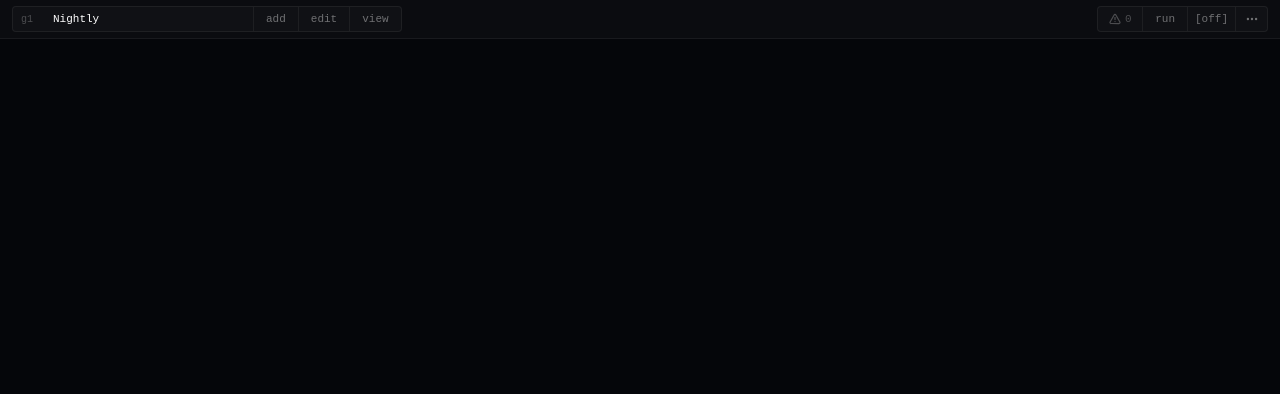
Scenario: switching and dismissing › opens the overflow menu in one click with edit open
This screenshot has width=1280, height=394.
Click the button "edit". click: {"x": 324, "y": 19}
box: x1=299 y1=7 x2=349 y2=31
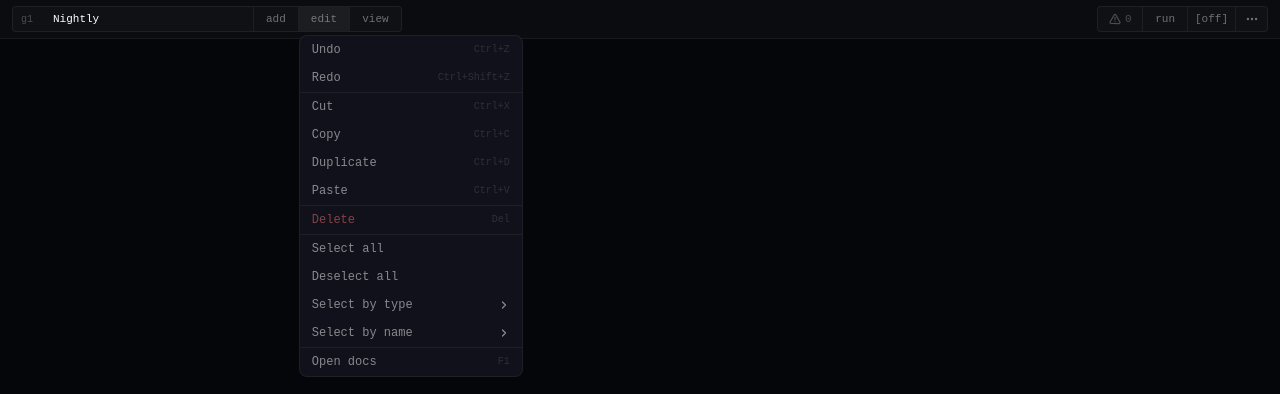
Press the mouse on the button named "Graph actions" at {"x": 1252, "y": 19}, box x1=1236 y1=7 x2=1267 y2=31
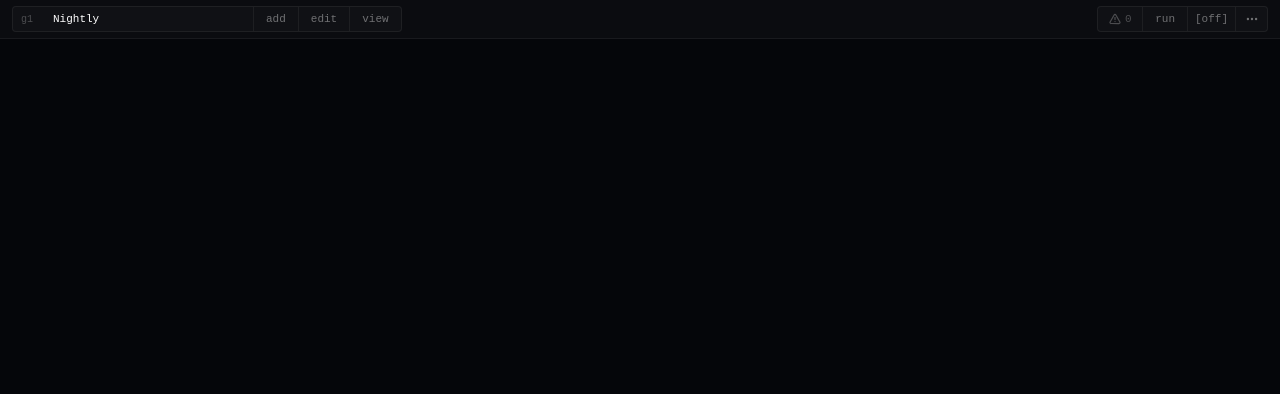
Click the button named "Graph actions". click: {"x": 1252, "y": 19}
box: x1=1236 y1=7 x2=1267 y2=31
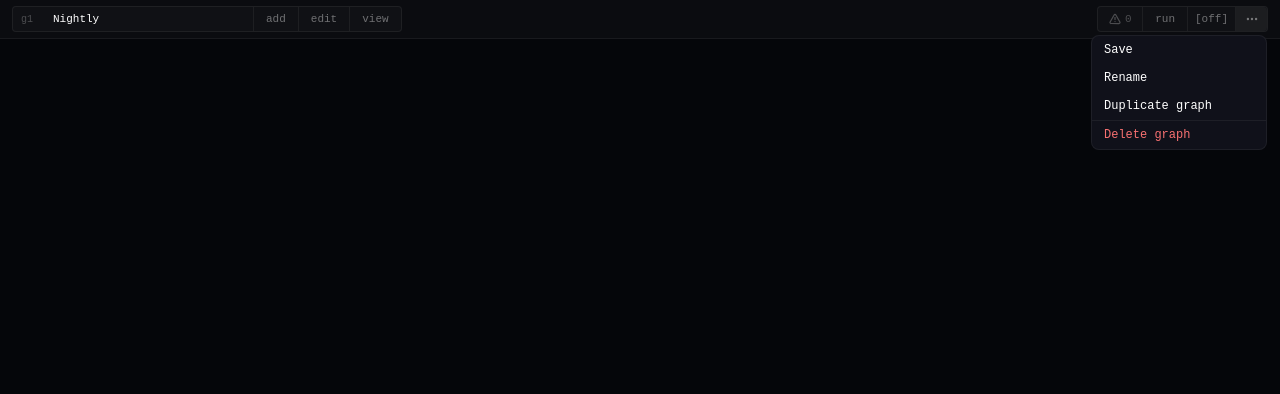
expect the button "Undo" is not shown: met
expect the button "Save" is shown: met, box x1=1092 y1=36 x2=1266 y2=64
